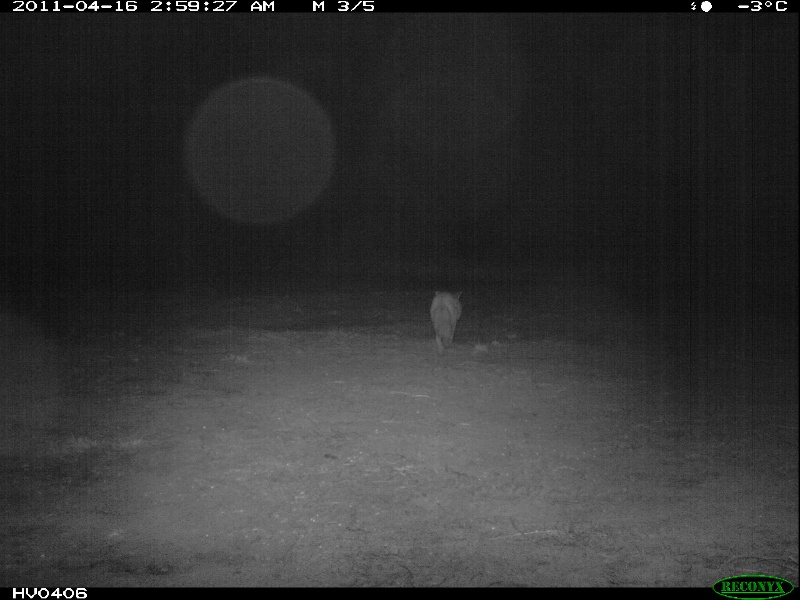fox: (428, 282, 467, 355)
